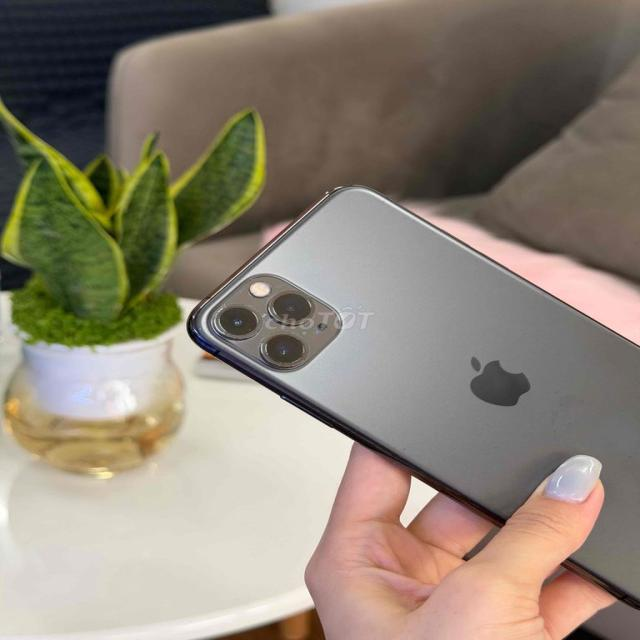scratch: (204, 299, 231, 341), (256, 308, 270, 322)
